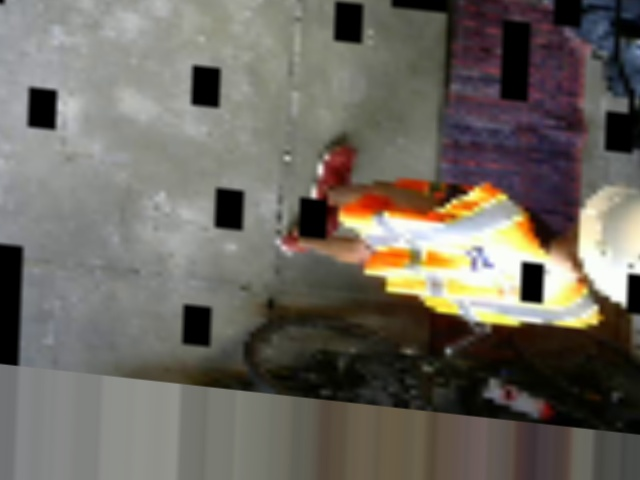three: (626, 253, 639, 289)
